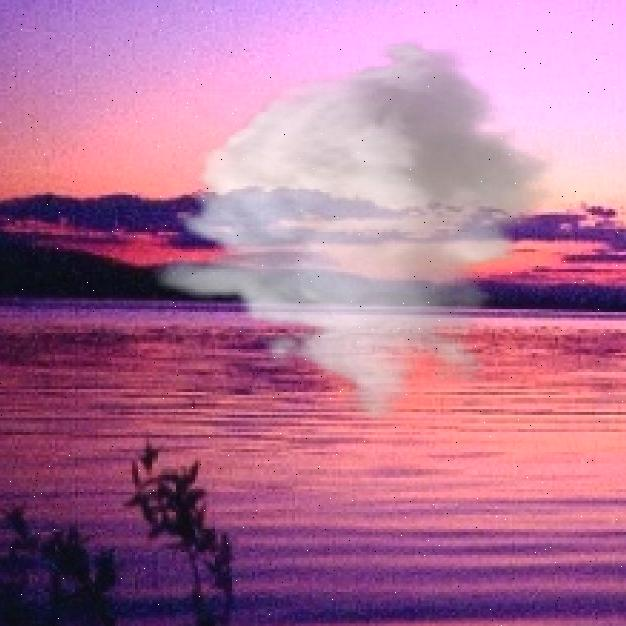smoke: (149, 38, 561, 423)
